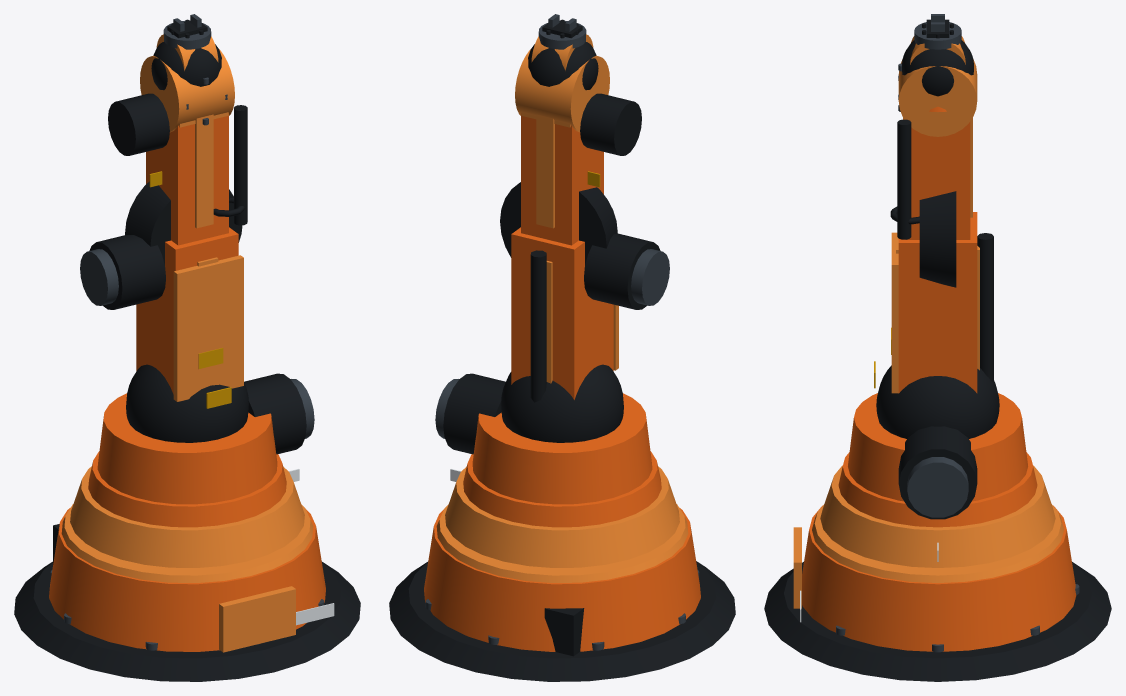
3 views of the same model, side by side, from view 1: azimuth 30°, elevation 25°; view 2: azimuth 150°, elevation 25°; view 3: azimuth 270°, elevation 25° (orthographic).
Parts seen in each view (by area): view 1: base:pedestal, base:plate, link:shoulder, joint-cover:j1, link:upper-arm-panel, joint-cover:j2, link:forearm, joint-housing:j1, link:upper-arm, base:collar, base:cover, joint-cover:j4 (+10 smaller); view 2: base:pedestal, base:plate, link:shoulder, joint-cover:j1, link:upper-arm, joint-cover:j2, link:forearm, joint-housing:j1, base:collar, joint-cover:j4, motor:j3, motor:j2 (+9 smaller); view 3: base:pedestal, base:plate, joint-cover:j1, link:upper-arm, link:shoulder, joint-cover:j2, link:forearm, base:collar, joint-housing:j1, joint-cover:j4, joint-cover:j3, motor:j2 (+7 smaller).
Part boxes in pixels (x1,y1,x2,y2): base:pedestal: (49, 508, 325, 651); base:plate: (14, 561, 360, 681); link:shoulder: (97, 393, 277, 504); joint-cover:j1: (70, 466, 304, 567); link:upper-arm-panel: (173, 255, 243, 401); joint-cover:j2: (126, 364, 248, 442); link:forearm: (146, 113, 228, 245); joint-housing:j1: (88, 451, 286, 527); link:upper-arm: (136, 227, 238, 394); base:collar: (61, 504, 313, 582); base:cover: (219, 586, 295, 652); joint-cover:j4: (140, 49, 234, 132); base:pedestal: (424, 508, 700, 651); base:plate: (389, 561, 735, 681); link:shoulder: (472, 393, 652, 504); joint-cover:j1: (445, 466, 679, 567); link:upper-arm: (511, 227, 613, 399); joint-cover:j2: (501, 364, 623, 442); link:forearm: (521, 113, 603, 245); joint-housing:j1: (463, 451, 661, 527); base:collar: (436, 504, 688, 582); joint-cover:j4: (515, 49, 609, 132); motor:j3: (584, 233, 660, 309); motor:j2: (443, 373, 505, 454); base:pedestal: (802, 505, 1076, 651); base:plate: (764, 562, 1111, 681); joint-cover:j1: (820, 465, 1055, 567); link:upper-arm: (898, 212, 977, 393); link:shoulder: (848, 393, 1027, 501); joint-cover:j2: (876, 365, 999, 438); link:forearm: (906, 121, 970, 239); base:collar: (812, 504, 1063, 582); joint-housing:j1: (838, 452, 1037, 527); joint-cover:j4: (898, 59, 977, 136); joint-cover:j3: (919, 191, 956, 287); motor:j2: (898, 426, 977, 519).
Size of the model in its own units: 0.992 by 1.86 by 0.992.
